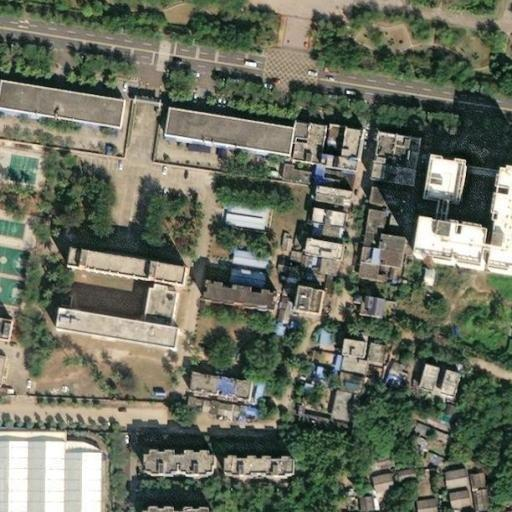building: (404, 176, 512, 276), (152, 100, 280, 146), (0, 72, 113, 119), (44, 310, 165, 350), (56, 252, 173, 287), (16, 435, 52, 512), (52, 438, 89, 512), (191, 282, 269, 314), (134, 450, 206, 477), (351, 204, 397, 244), (128, 281, 161, 328), (177, 375, 239, 399), (213, 457, 282, 478), (281, 117, 311, 156), (359, 151, 404, 176), (319, 386, 349, 419), (138, 500, 211, 512), (306, 166, 342, 189), (292, 228, 330, 249), (346, 239, 368, 274), (283, 290, 310, 317), (302, 185, 338, 205), (407, 439, 439, 461), (362, 122, 383, 154), (309, 143, 346, 161), (329, 116, 350, 147), (407, 357, 427, 388), (356, 454, 384, 476), (300, 202, 332, 221), (214, 200, 254, 215), (348, 288, 373, 312), (378, 125, 397, 156), (427, 362, 446, 393), (220, 253, 258, 268), (325, 369, 352, 390), (212, 213, 252, 227), (356, 336, 376, 364), (392, 127, 409, 158), (359, 471, 384, 492), (329, 353, 355, 373), (270, 160, 298, 178), (365, 240, 391, 259), (222, 246, 258, 259), (435, 489, 458, 509), (432, 468, 455, 488), (288, 381, 305, 408), (412, 452, 436, 469), (218, 266, 254, 277), (374, 363, 392, 385), (365, 266, 388, 283), (205, 400, 222, 421), (0, 314, 13, 341), (331, 330, 352, 346), (268, 298, 279, 326), (278, 116, 297, 132), (274, 262, 287, 285), (458, 470, 475, 487), (309, 218, 328, 233), (333, 490, 346, 511), (405, 499, 426, 512), (308, 254, 326, 269), (241, 382, 254, 402), (386, 469, 407, 481), (464, 492, 477, 511), (301, 365, 318, 379), (269, 233, 281, 252), (358, 180, 373, 195), (431, 402, 445, 418), (316, 119, 329, 134), (272, 284, 284, 299), (322, 352, 332, 369), (307, 332, 319, 346), (400, 424, 415, 435), (277, 252, 290, 264), (348, 495, 359, 509), (498, 502, 512, 512), (265, 261, 277, 272), (313, 386, 324, 397), (288, 253, 296, 268), (266, 325, 275, 336), (344, 287, 351, 296), (319, 368, 328, 375), (487, 507, 498, 512)
